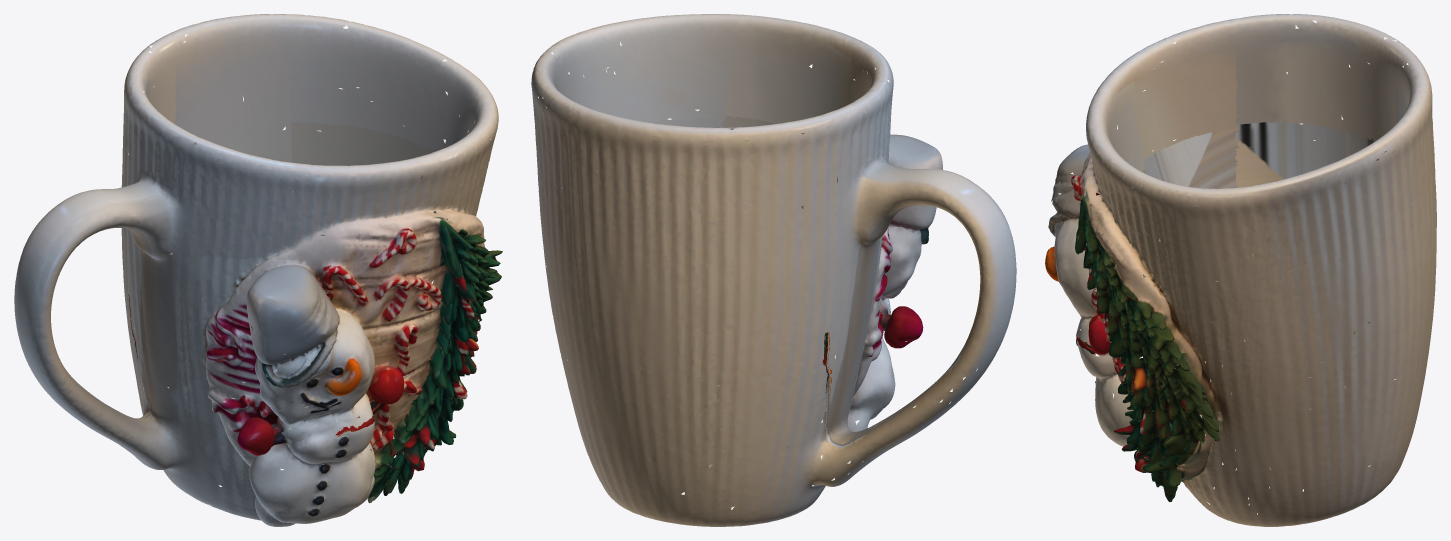
Rendered from kruzhka2.glb.
3 views of the same model, side by side, from view 1: azimuth 30°, elevation 25°; view 2: azimuth 150°, elevation 25°; view 3: azimuth 270°, elevation 25° (orthographic). The views are drawn at different scales.
Visible parts, largest first — view 1: model; view 2: model; view 3: model.
Boxes of the visible parts, left/top/right/bottom form: model: left=14, top=14, right=502, bottom=526; model: left=531, top=14, right=1016, bottom=526; model: left=1045, top=14, right=1436, bottom=526.
Size of the model in its own units: 1.62 by 1.46 by 1.23.
Materials: 1 (1 with a texture image).
